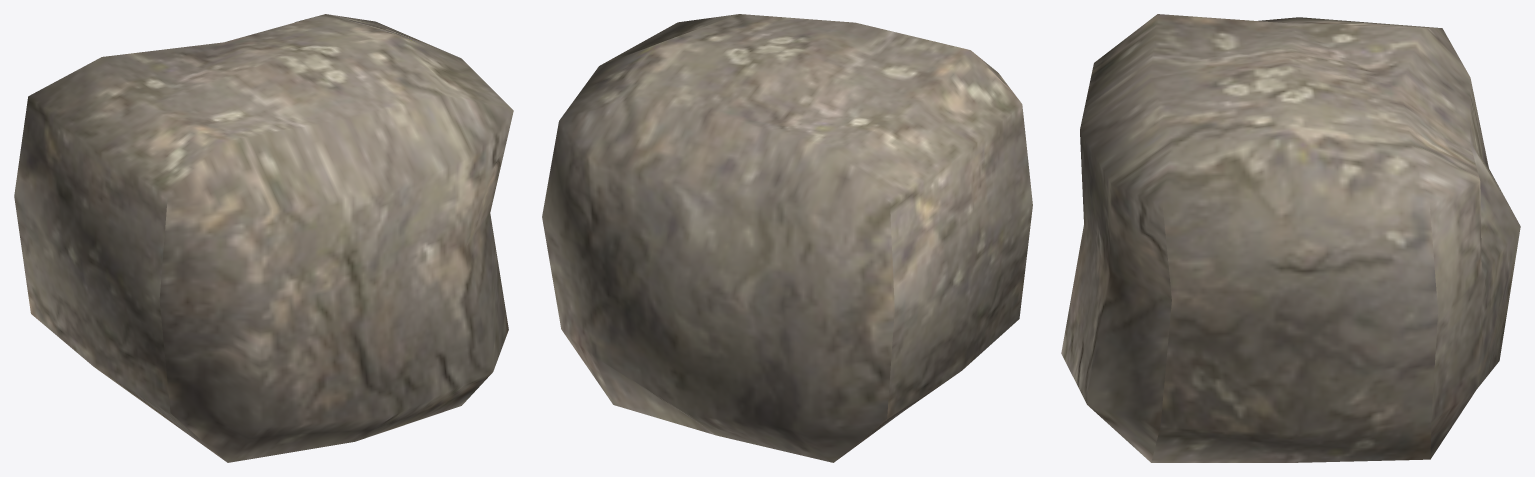
The model's file is rockCube.fbx.
The picture shows the model from 3 angles, left to right: view 1: azimuth 30°, elevation 25°; view 2: azimuth 150°, elevation 25°; view 3: azimuth 270°, elevation 25°; orthographic projection. The views are drawn at different scales.
Visible parts, largest first — view 1: pCube102; view 2: pCube102; view 3: pCube102.
Boxes of the visible parts, x1=… form: pCube102: x1=14, y1=14, x2=513, y2=462; pCube102: x1=542, y1=14, x2=1032, y2=462; pCube102: x1=1061, y1=14, x2=1520, y2=462.
Bounding box in the file's own units: 1.11 × 0.9185 × 1.13.
